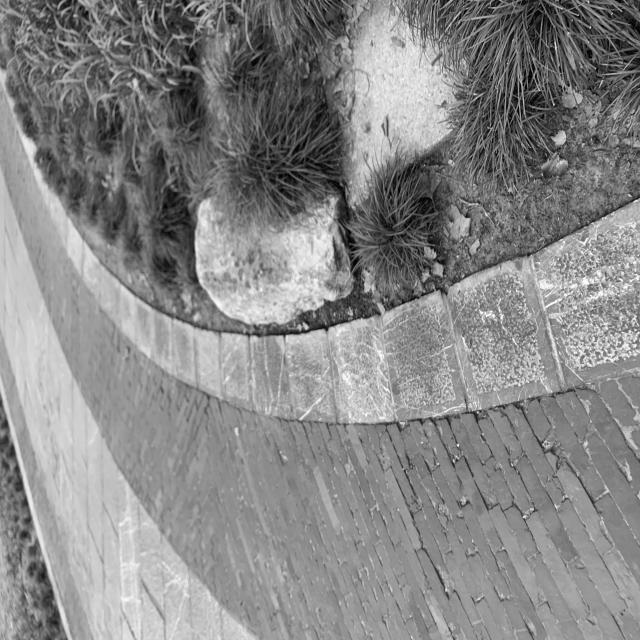Stone: (195, 195, 353, 325)
